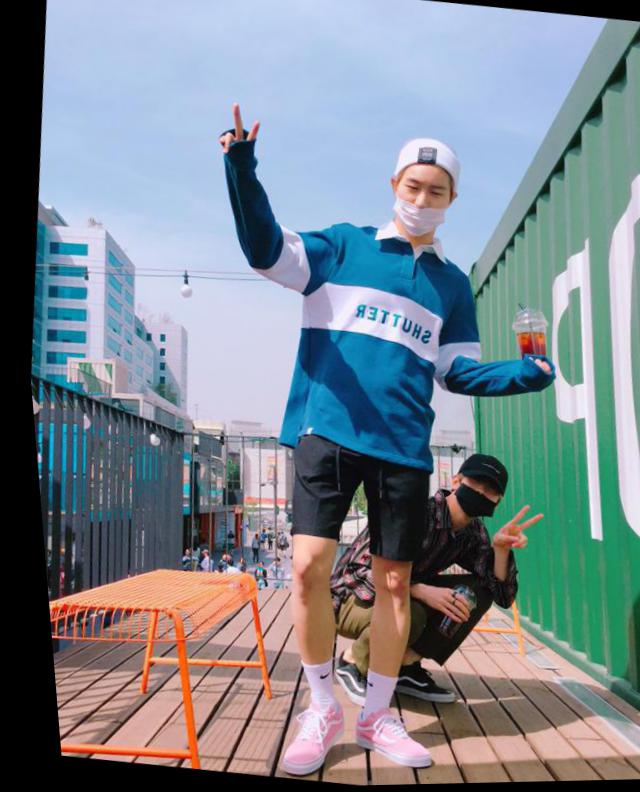WRONG: (385, 176, 454, 242), (441, 471, 496, 523)
